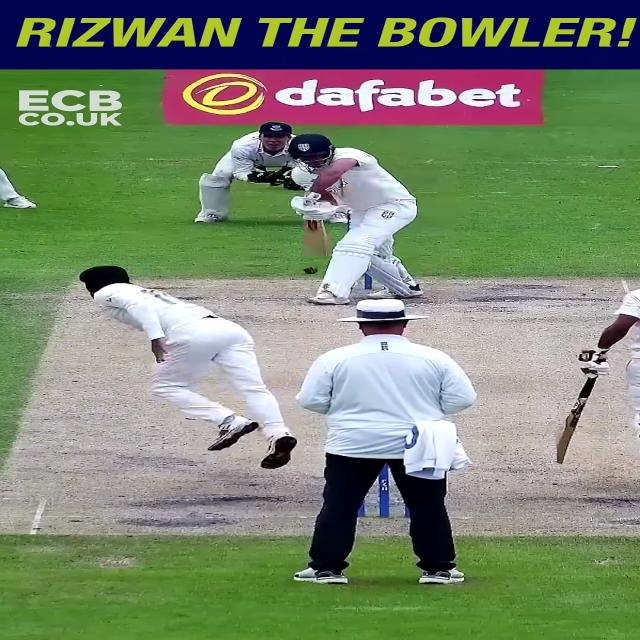ball: (302, 268, 315, 274)
